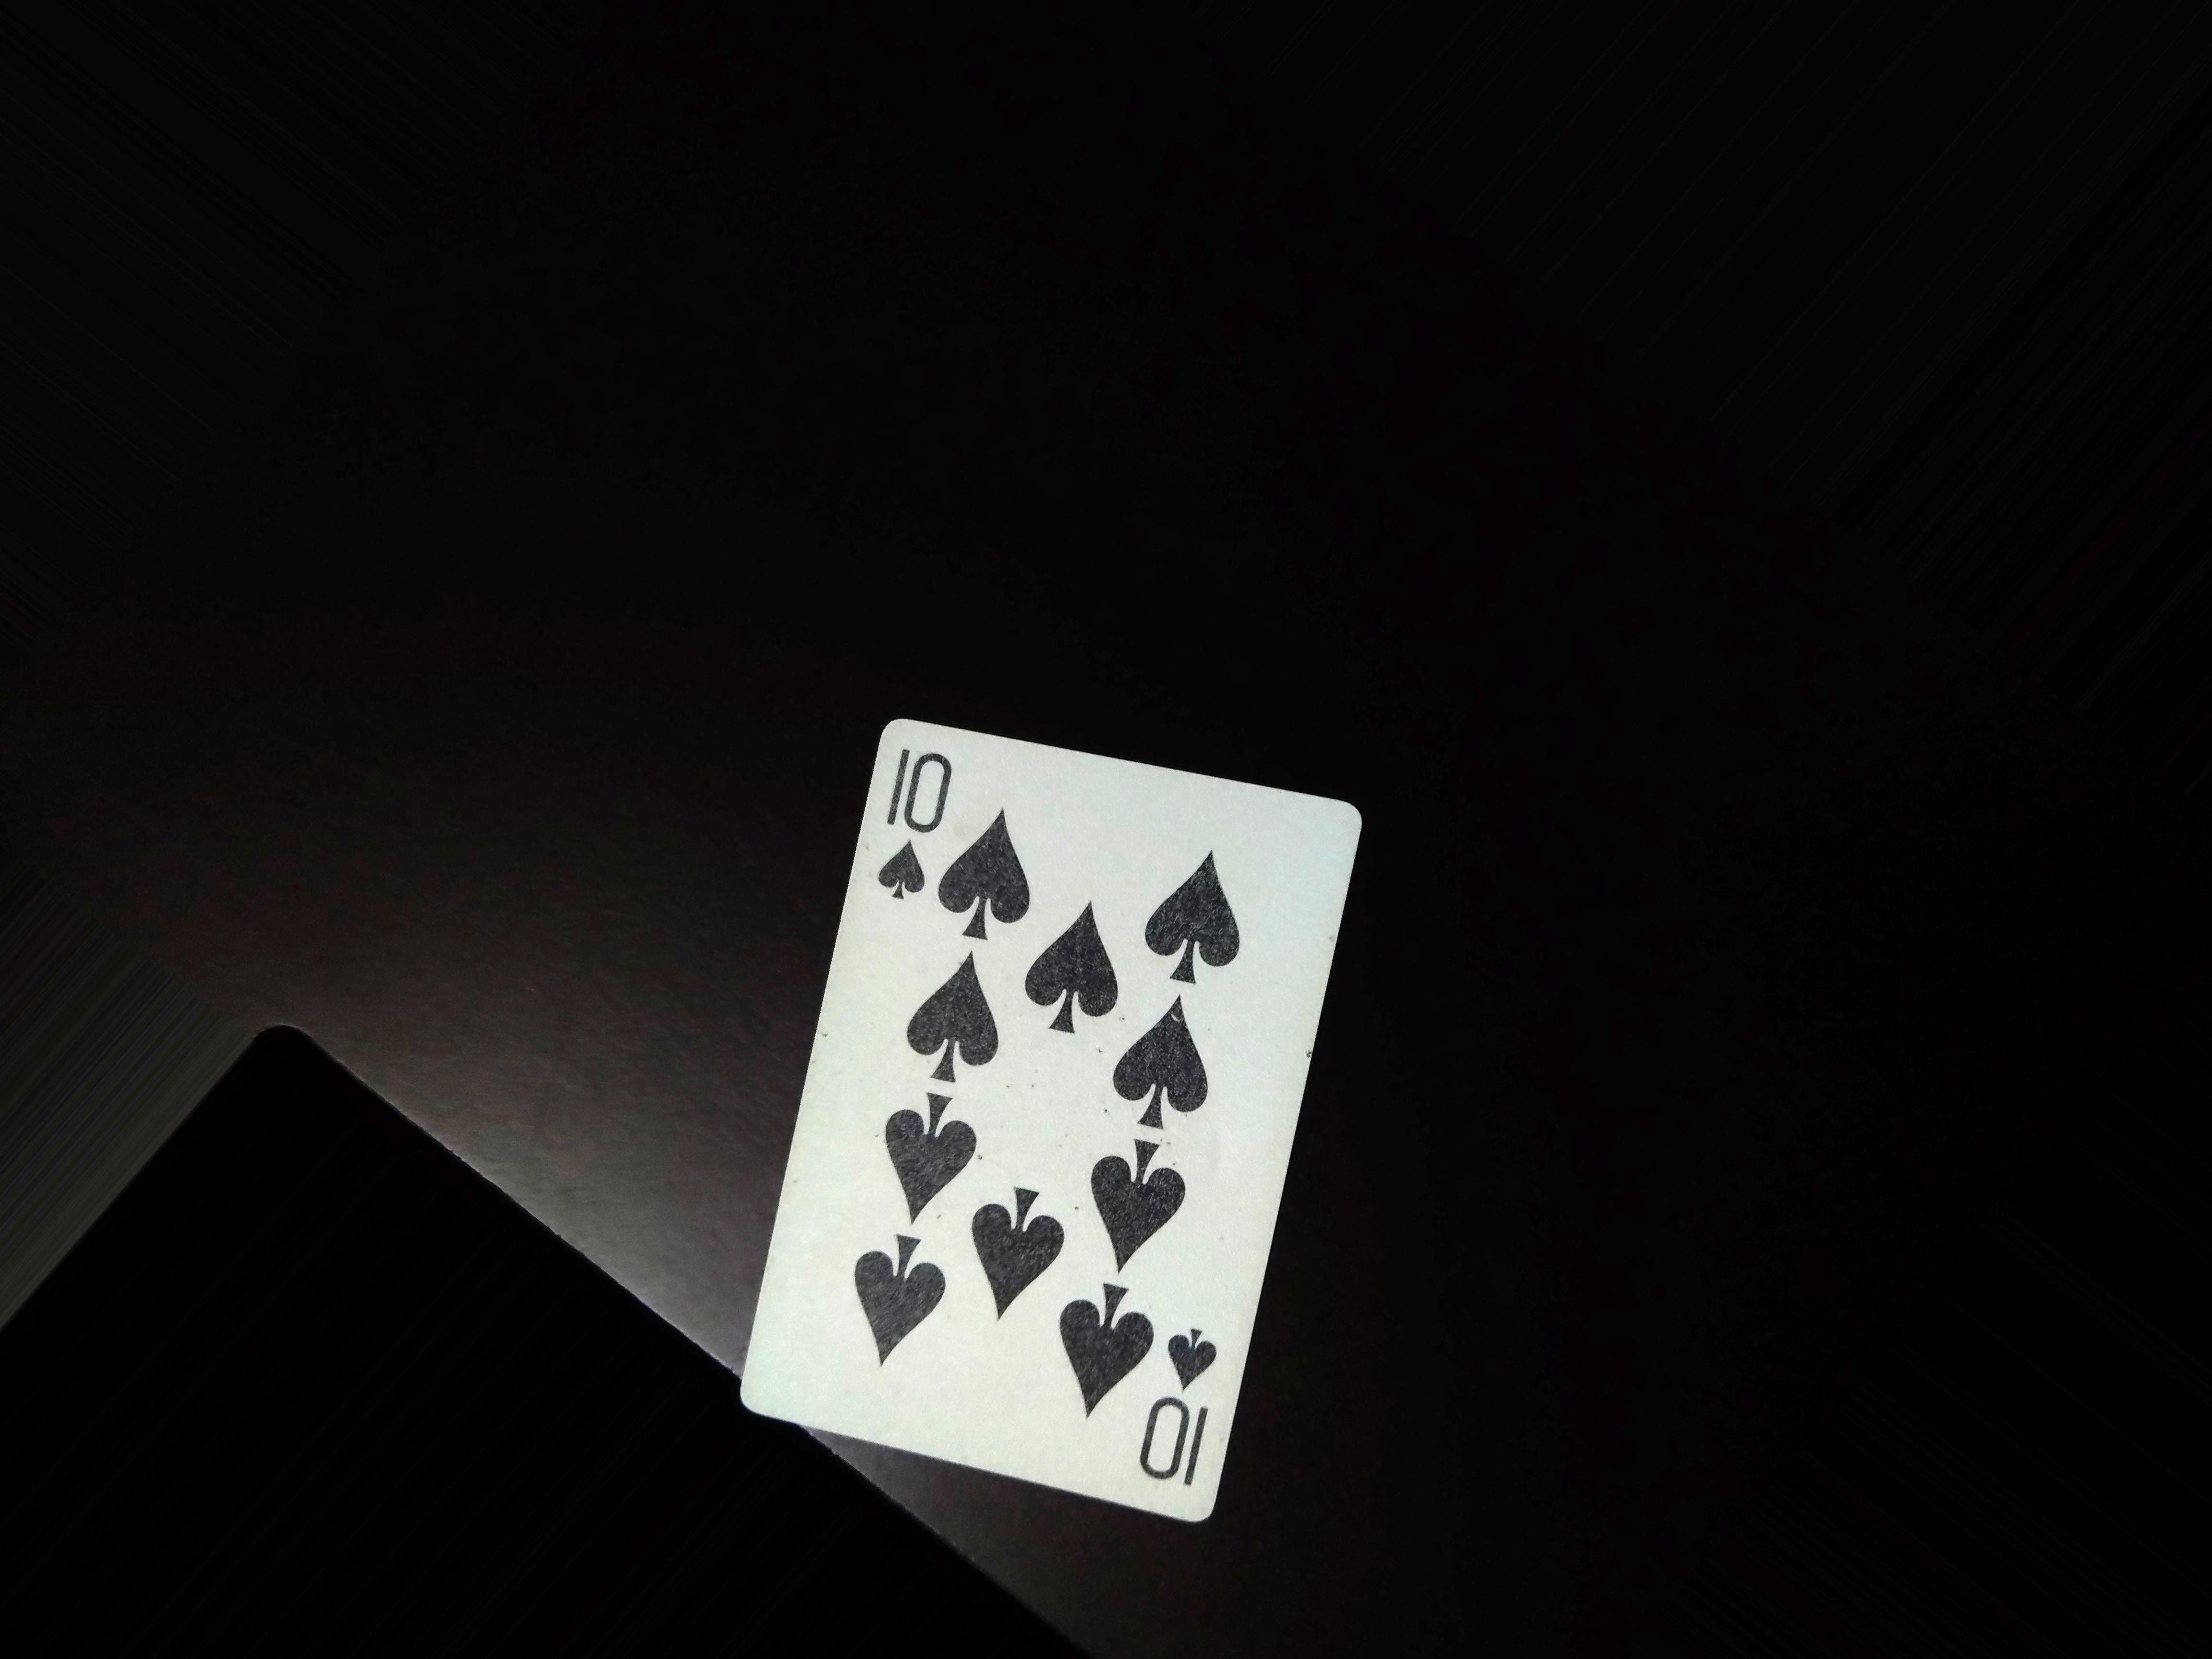10S: (873, 723, 972, 924)
